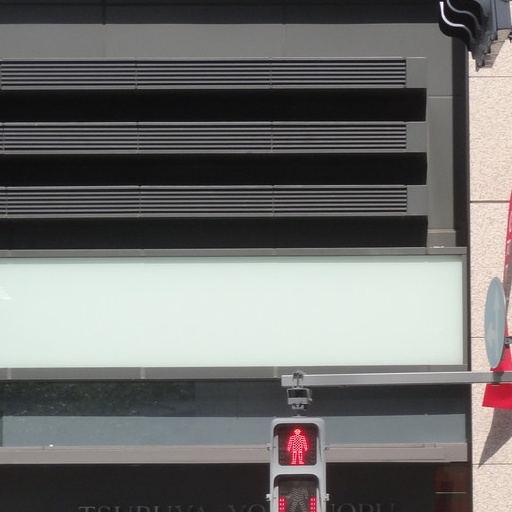Pedestrian_Signal_Red: (268, 411, 324, 508)
